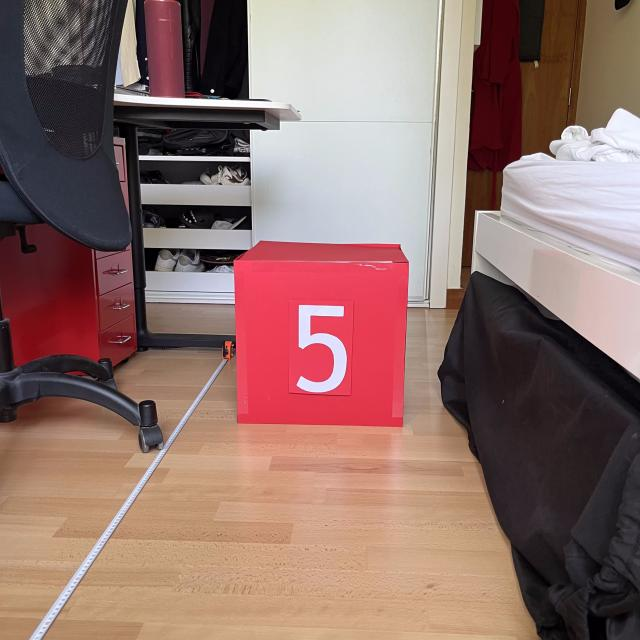box: (229, 236, 412, 429)
